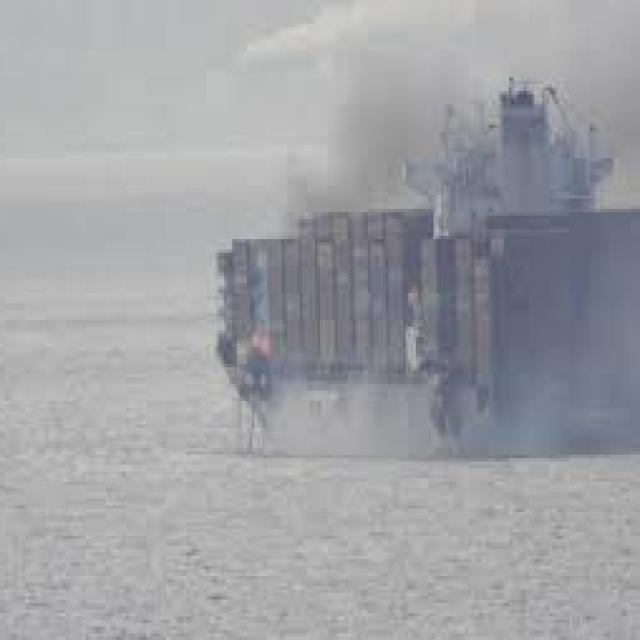cargoship: (209, 61, 640, 458)
